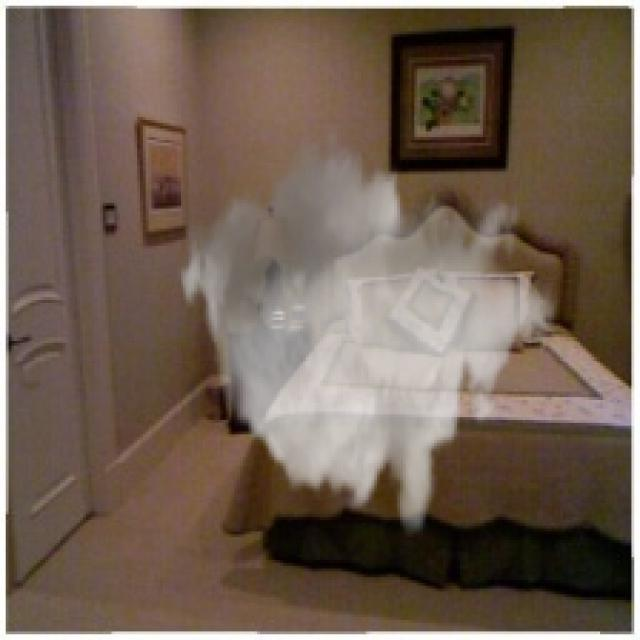smoke: (174, 120, 557, 537)
